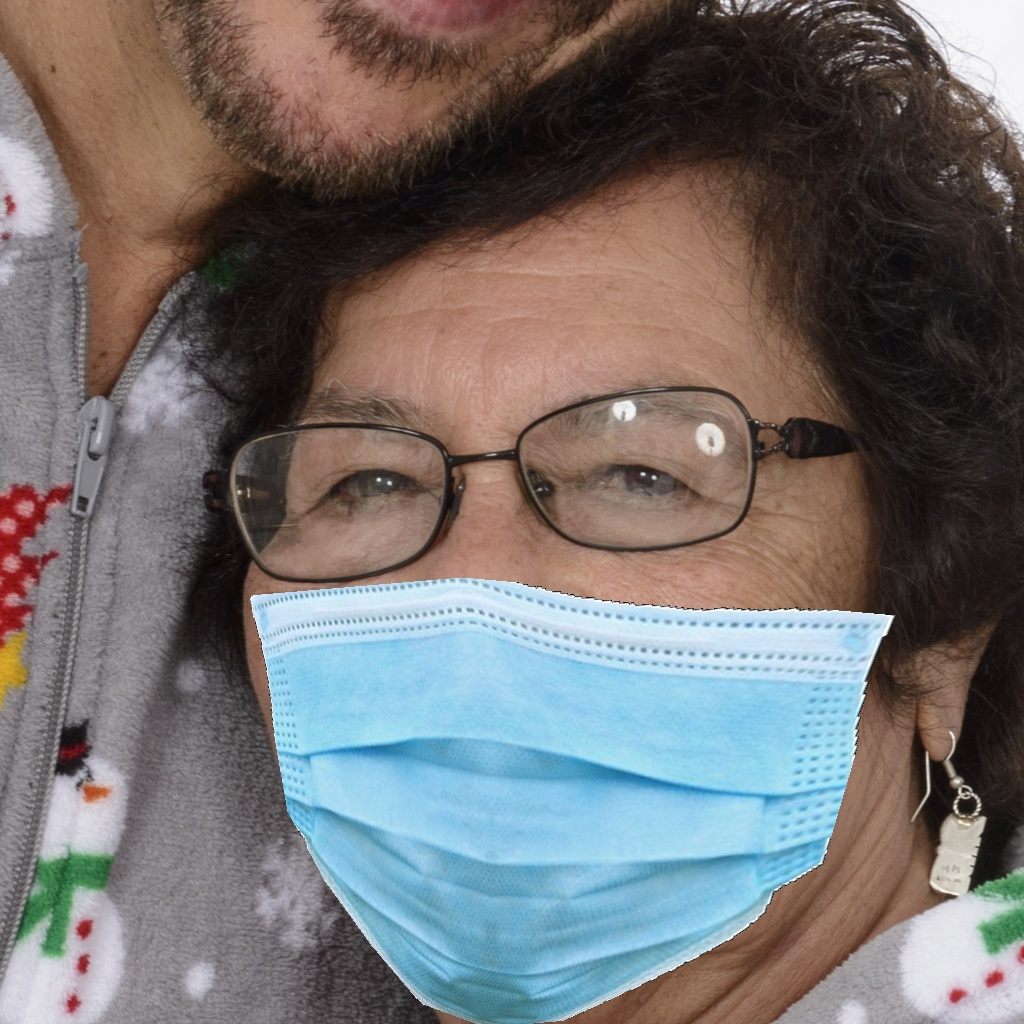Mask: (246, 363, 906, 1024)
